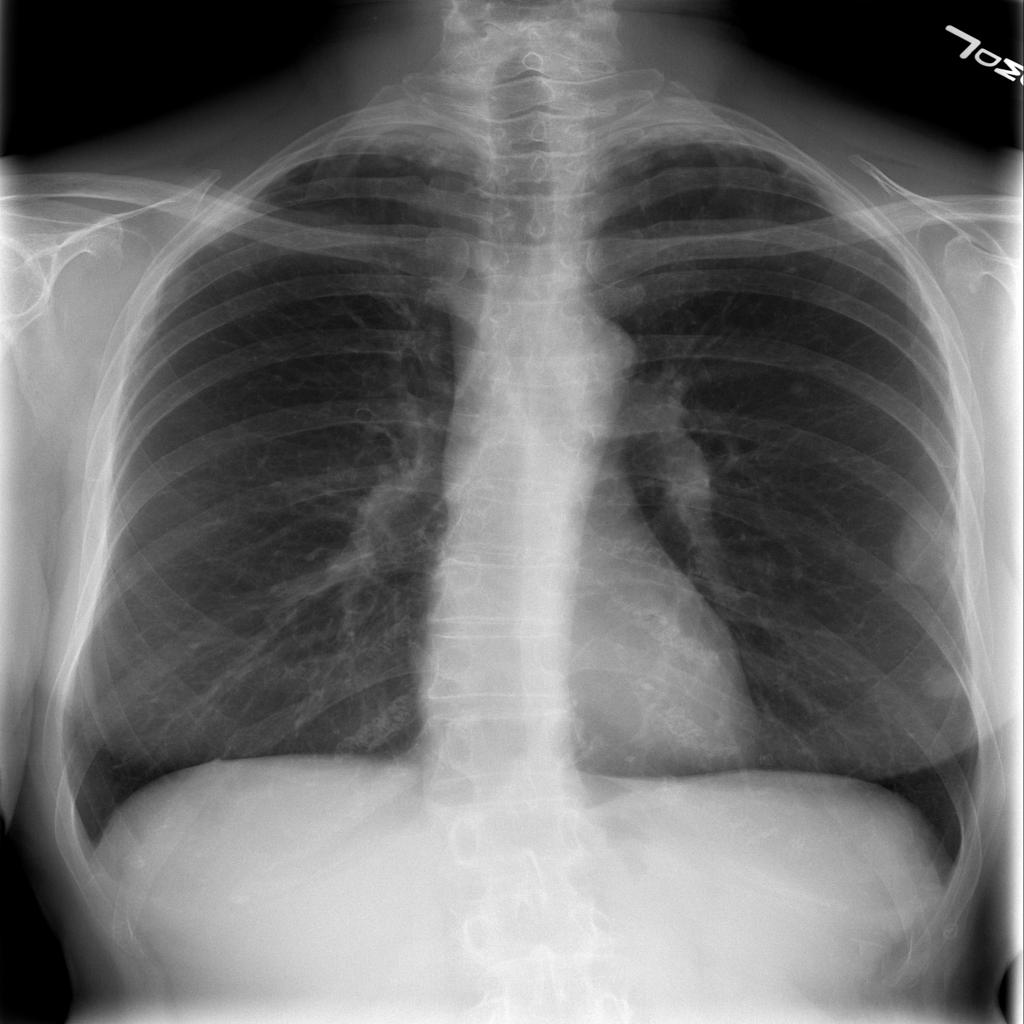nodule: (868, 486, 986, 606), (908, 645, 986, 715), (785, 377, 820, 403)
